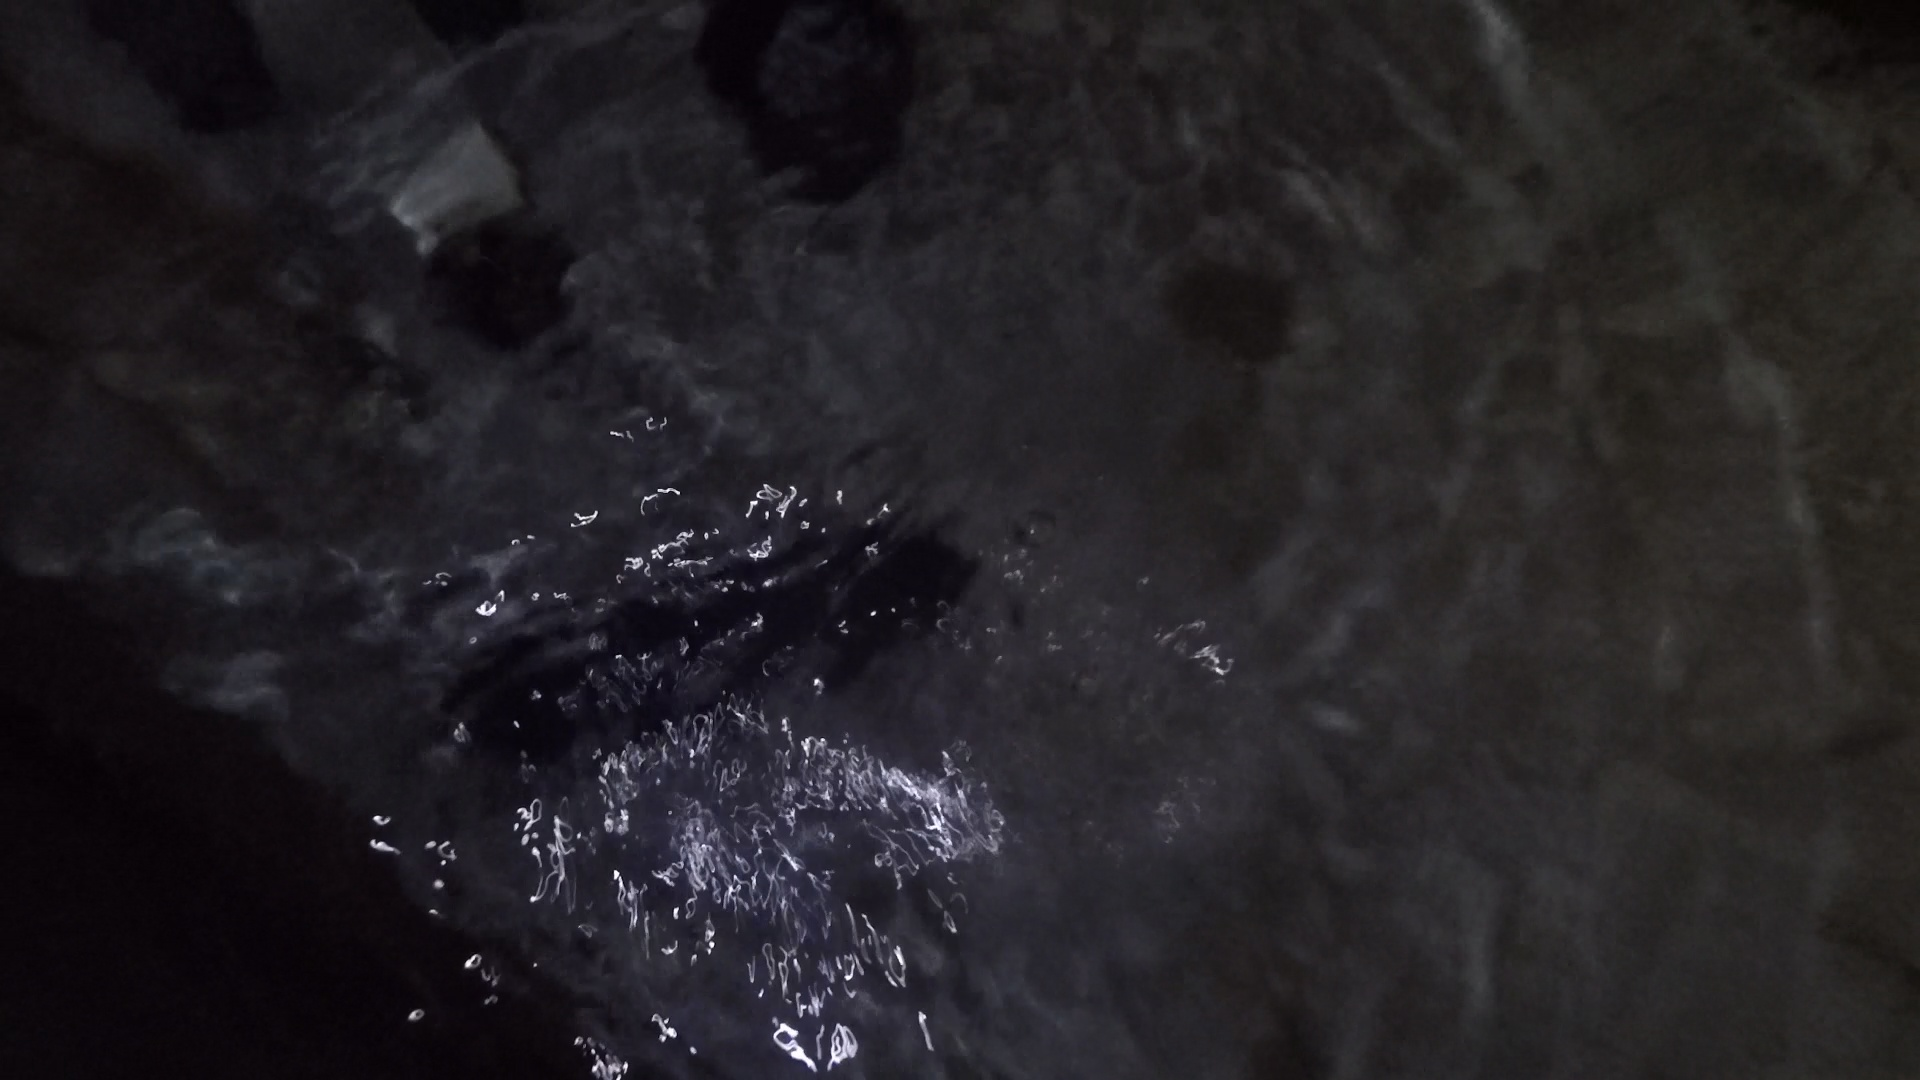led_block: (410, 225, 574, 351)
pipe: (696, 8, 916, 154), (381, 113, 527, 247)
